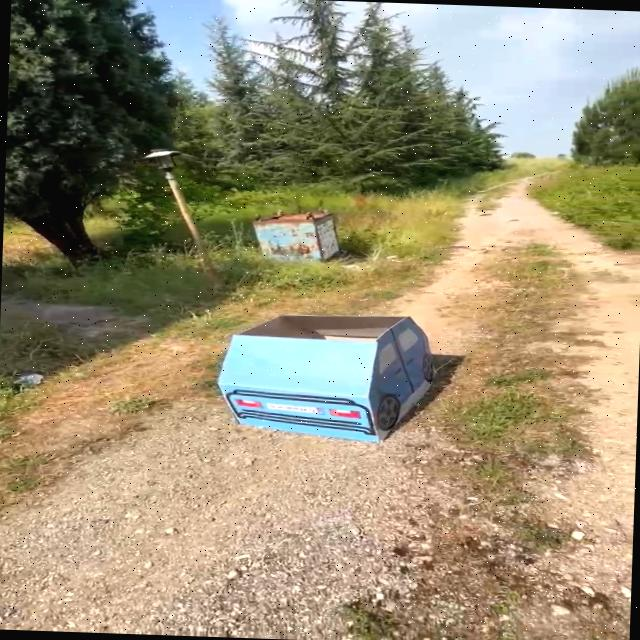blue_car: (191, 301, 463, 456)
